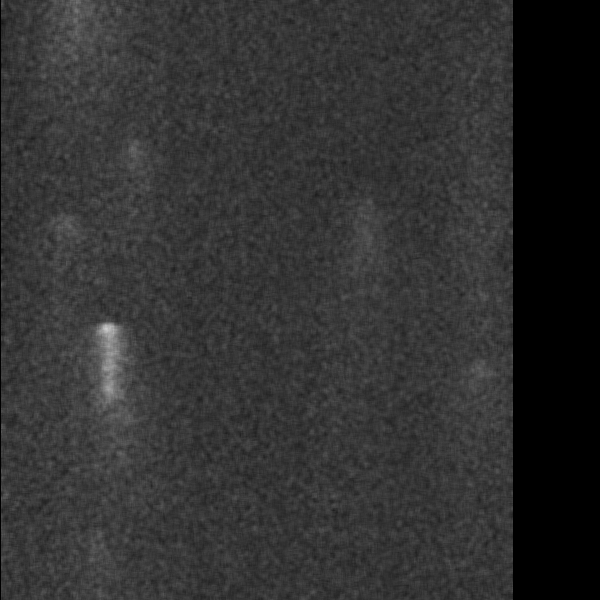spark: (86, 318, 133, 446), (347, 190, 383, 323), (459, 353, 494, 406), (36, 210, 90, 243), (61, 1, 90, 42), (120, 136, 141, 172)
